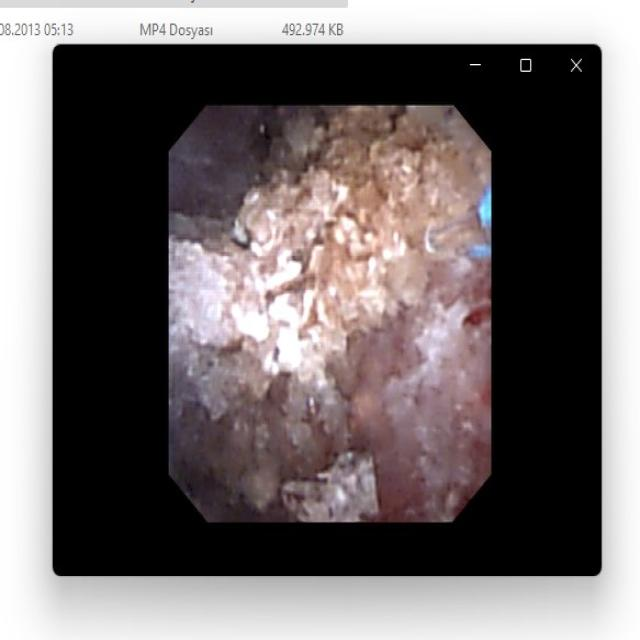stone: (174, 113, 487, 501), (284, 449, 378, 515)
